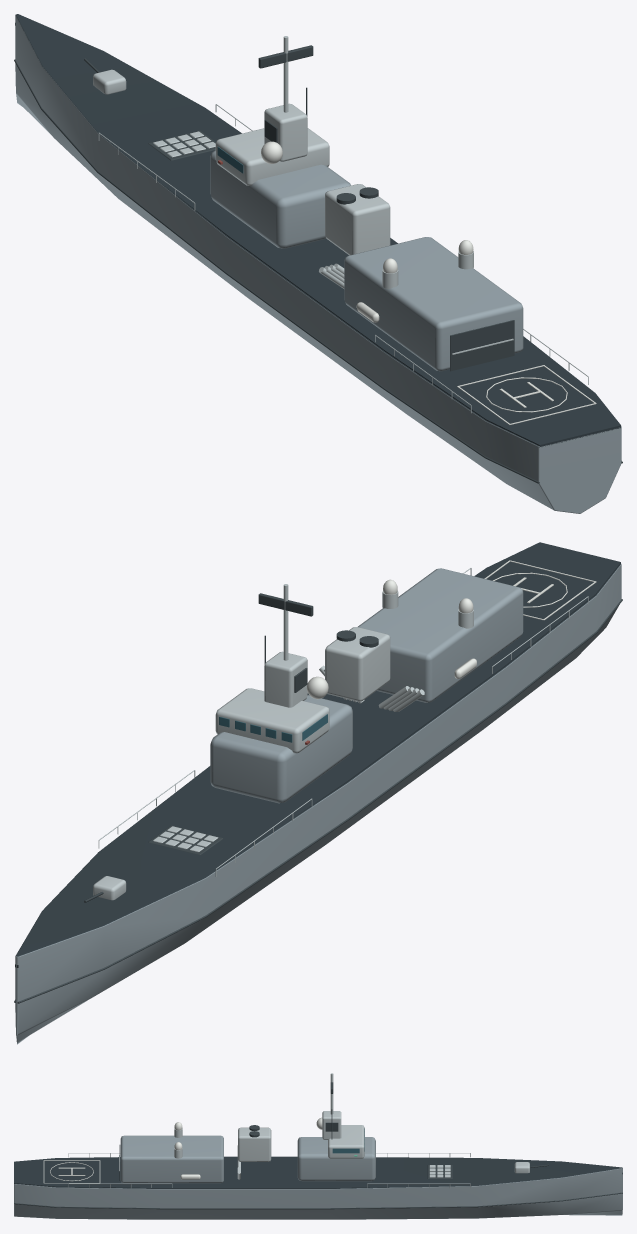
File: generic-frigate.glb
3 renders of one model, top to bottom at view 1: azimuth 30°, elevation 25°; view 2: azimuth 150°, elevation 25°; view 3: azimuth 270°, elevation 25°, orthographic. The views are drawn at different scales.
Visible parts, largest first — view 1: frigate_Hull, frigate_MainDeck, frigate_AftHangar, frigate_Superstructure, frigate_Funnel, frigate_Bridge, frigate_HangarDoor, frigate_MastBase; view 2: frigate_Hull, frigate_MainDeck, frigate_AftHangar, frigate_Superstructure, frigate_Bridge, frigate_Funnel, frigate_MastBase; view 3: frigate_Hull, frigate_MainDeck, frigate_AftHangar, frigate_Superstructure, frigate_Funnel, frigate_Bridge, frigate_MastBase, frigate_Waterline.008, frigate_Waterline.009, frigate_VLSRecess.
Boxes of the visible parts, <box> form: frigate_Hull: <box>15,14,621,513</box>; frigate_MainDeck: <box>15,23,620,447</box>; frigate_AftHangar: <box>344,237,523,371</box>; frigate_Superstructure: <box>210,150,350,248</box>; frigate_Funnel: <box>325,184,390,255</box>; frigate_Bridge: <box>215,128,329,185</box>; frigate_HangarDoor: <box>450,320,514,371</box>; frigate_MastBase: <box>264,103,307,161</box>; frigate_Hull: <box>15,564,621,1044</box>; frigate_MainDeck: <box>15,542,620,967</box>; frigate_AftHangar: <box>358,568,523,702</box>; frigate_Superstructure: <box>210,695,352,803</box>; frigate_Bridge: <box>215,688,329,753</box>; frigate_Funnel: <box>325,627,390,701</box>; frigate_MastBase: <box>264,651,307,707</box>; frigate_Hull: <box>14,1157,622,1219</box>; frigate_MainDeck: <box>14,1156,622,1188</box>; frigate_AftHangar: <box>120,1135,223,1183</box>; frigate_Superstructure: <box>297,1137,375,1181</box>; frigate_Funnel: <box>238,1127,271,1161</box>; frigate_Bridge: <box>328,1125,364,1158</box>; frigate_MastBase: <box>322,1111,341,1139</box>; frigate_Waterline.008: <box>160,1208,330,1209</box>; frigate_Waterline.009: <box>330,1206,476,1209</box>; frigate_VLSRecess: <box>427,1165,452,1178</box>.
Size of the model in its own units: 16.24 by 32.93 by 128.
